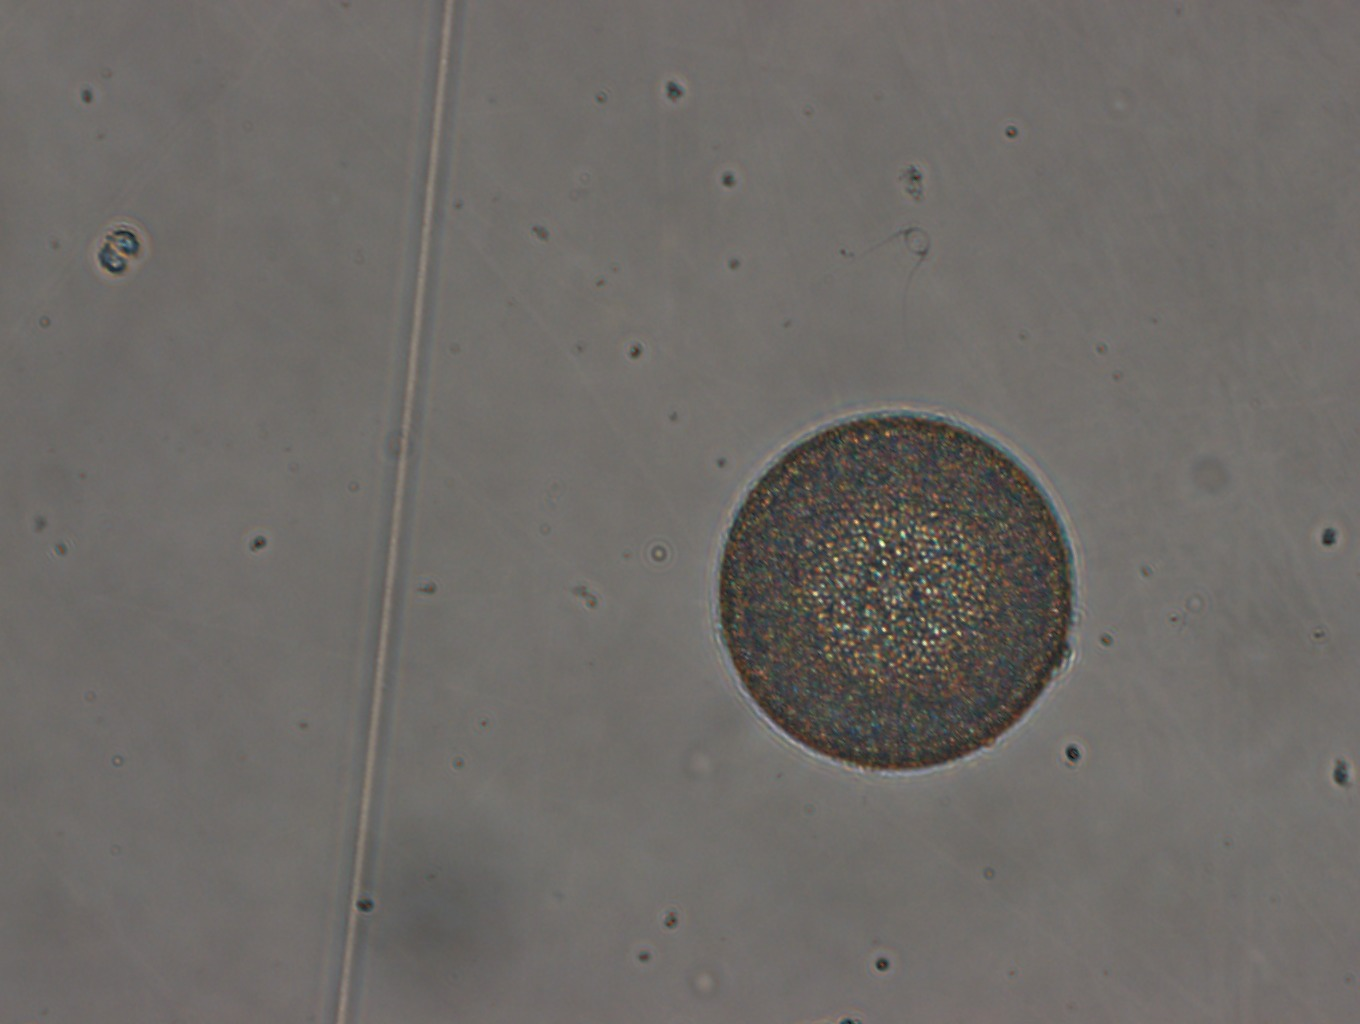coscinodiscus: (715, 403, 1080, 776)
